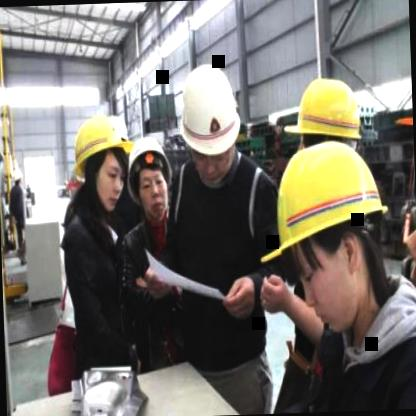helmet: (262, 139, 390, 330), (282, 73, 367, 171), (178, 63, 244, 188), (69, 113, 133, 212), (126, 133, 174, 229)
